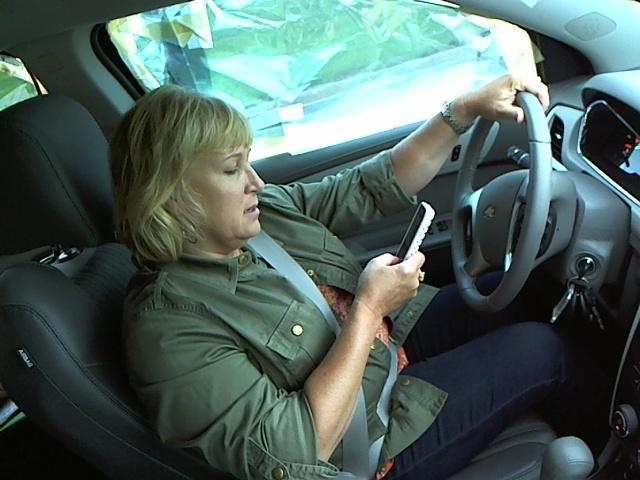PhoneUse: (392, 195, 437, 278)
